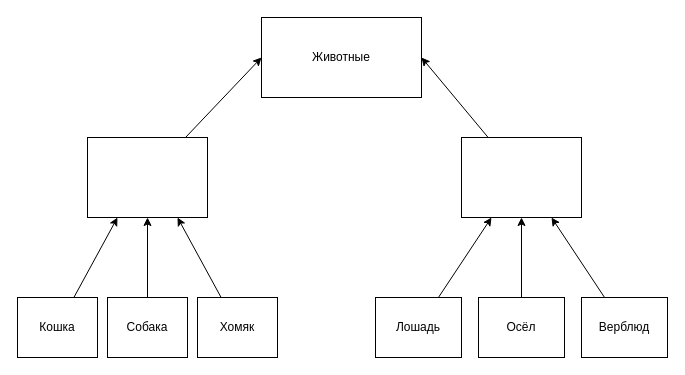
Image size: 685x375. Some labels were removed from this diagram. The box of each missing label's shape, as (x1, y1, x2, y2) in pixels:
Вьючные животные: (460, 136, 582, 218)
Домашние животные: (86, 136, 208, 218)
